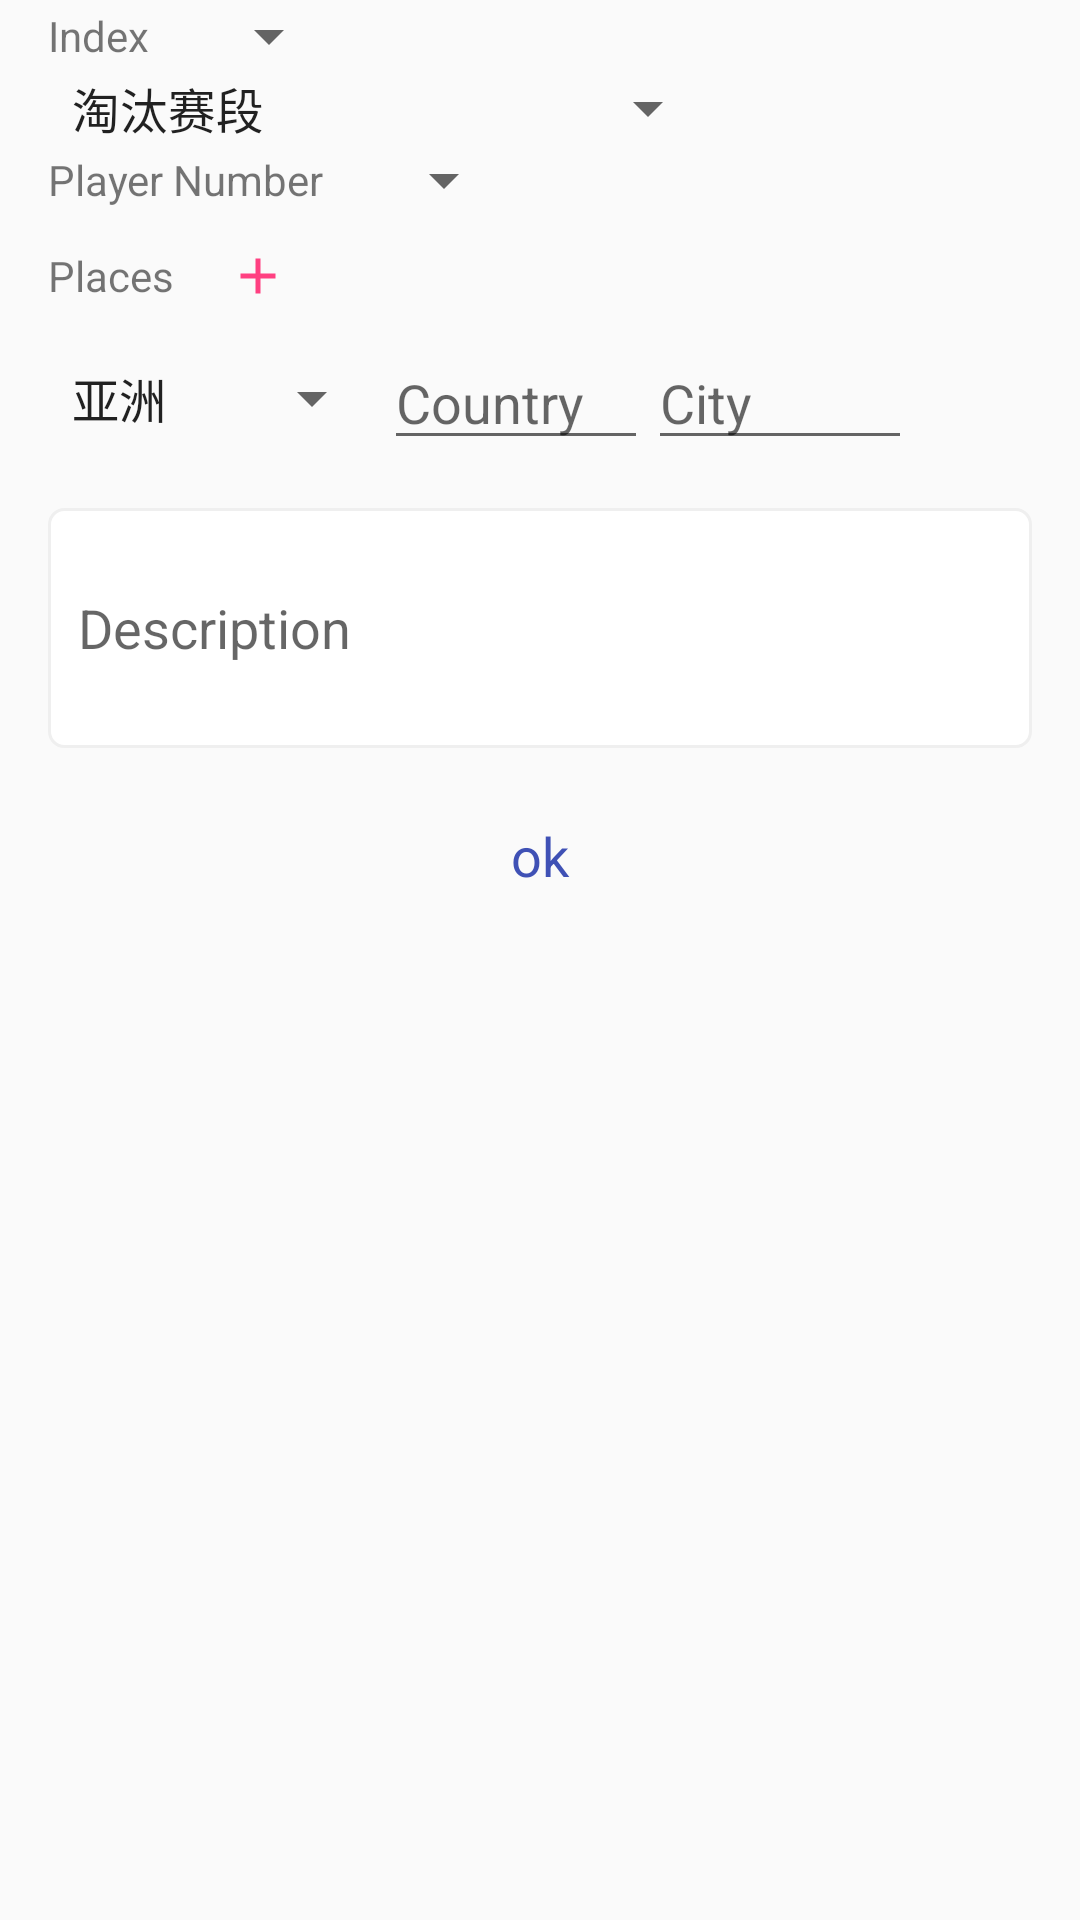

Screen size 1080*1920. Icon name, then its box in pixels as rect(x1, y1, x2, y2):
add: rect(240, 258, 276, 294)
